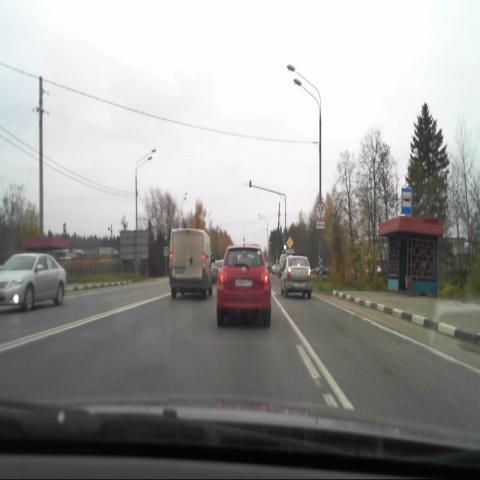3_13: (315, 202, 327, 222)
